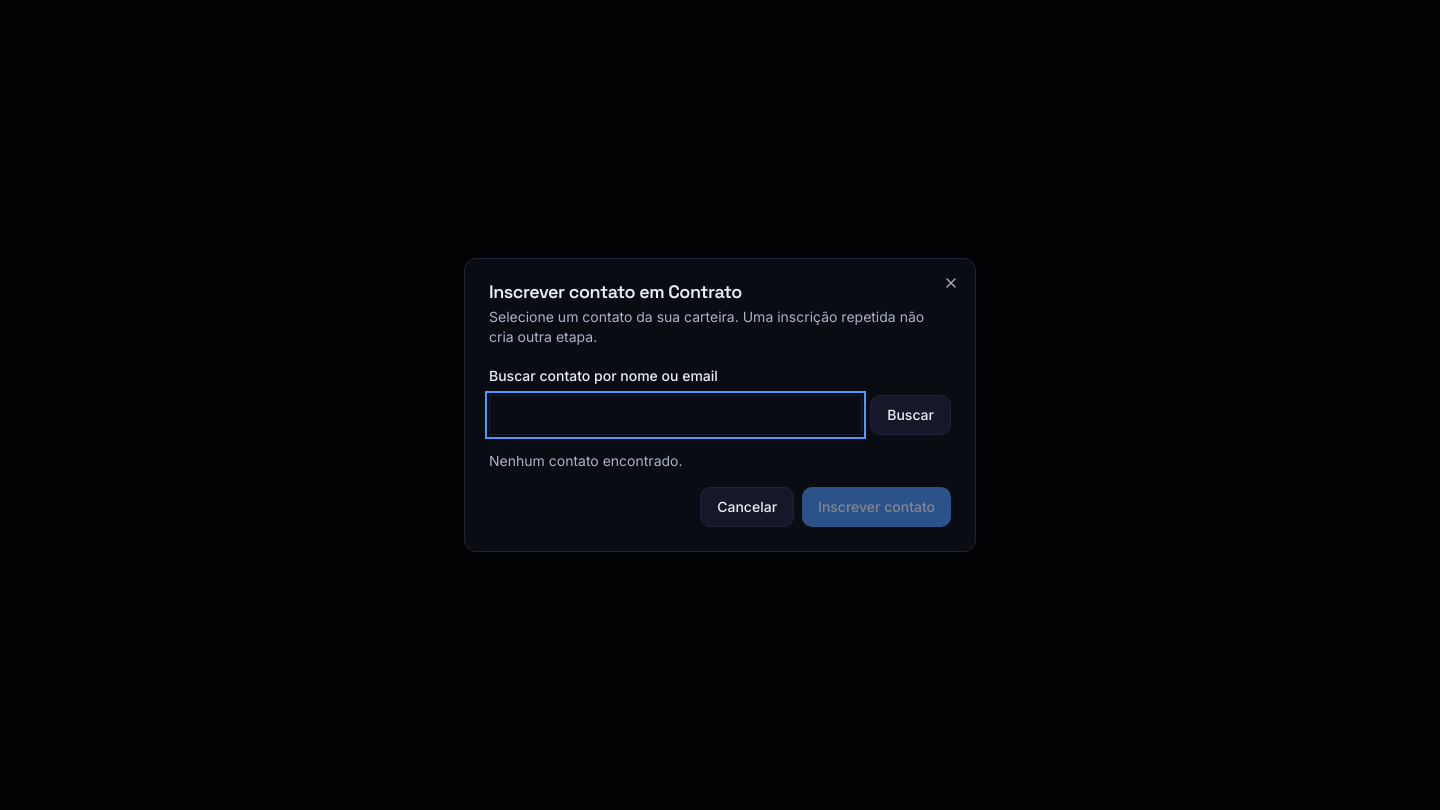
it: Inscrição com busca e cache da carteira › repete o mesmo termo depois de falha transitória e oferece o contato recuperado
This screenshot has width=1440, height=810.
Expected: the text "Nenhum contato encontrado." is shown, [489,452,682,469]
Type "Maria Silva" into the field labelled "Buscar contato por nome ou email" at (676,415), box [489,395,862,435]
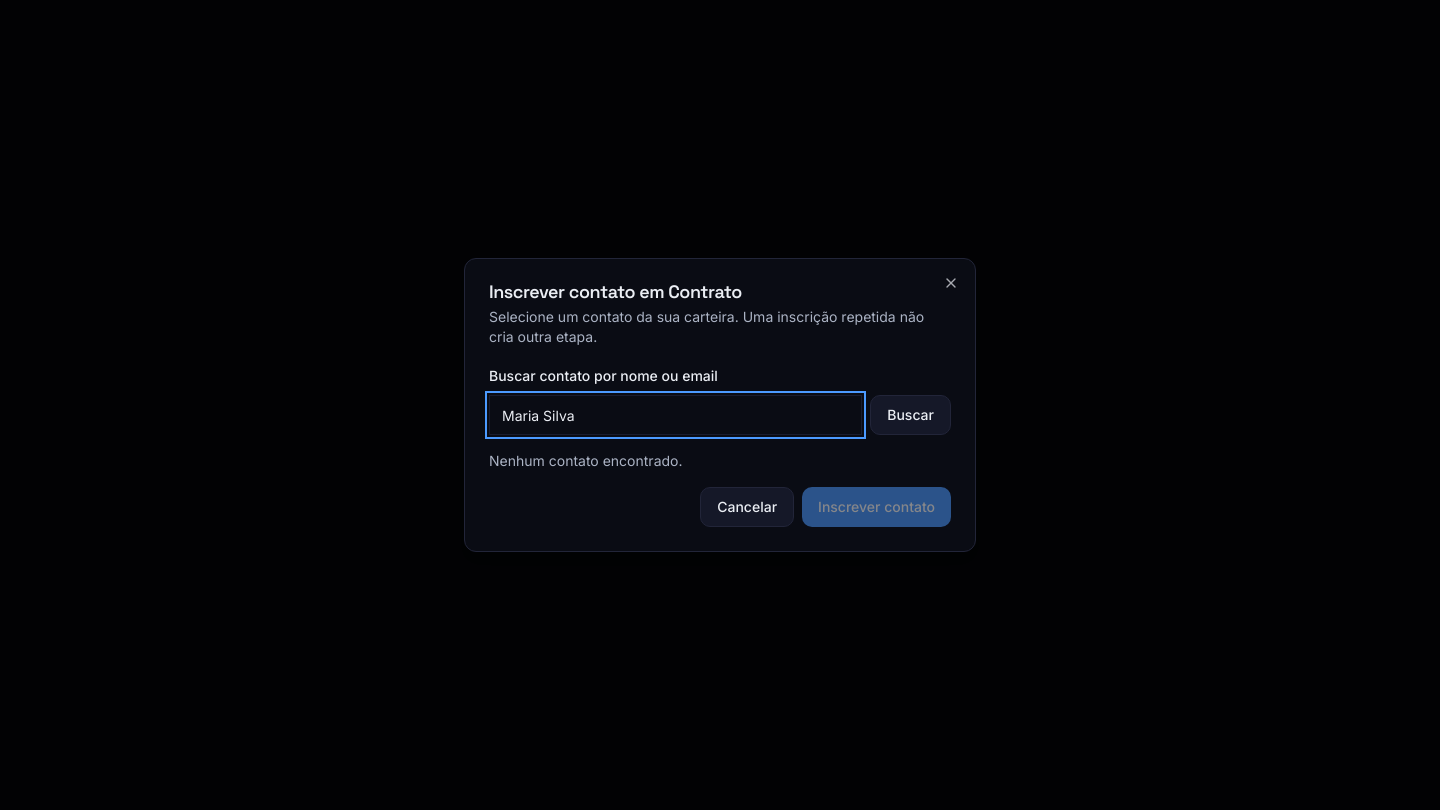
Click the button "Buscar" at (911,415), box [870,395,951,435]
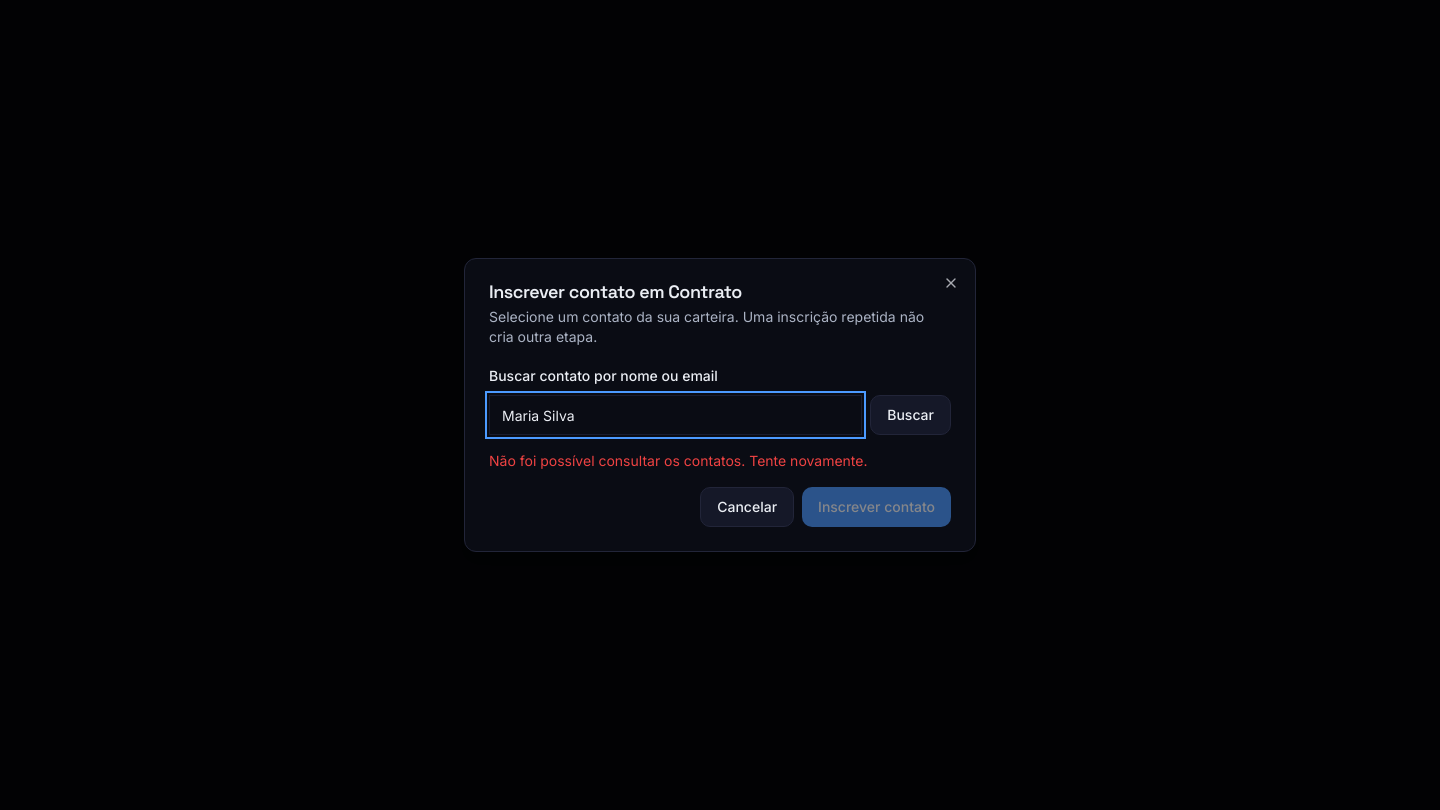
Result: the message "Não foi possível consultar os contatos. Tente novamente." is shown at [489,452,868,469]
Click the button "Buscar" at (911,415), box [870,395,951,435]
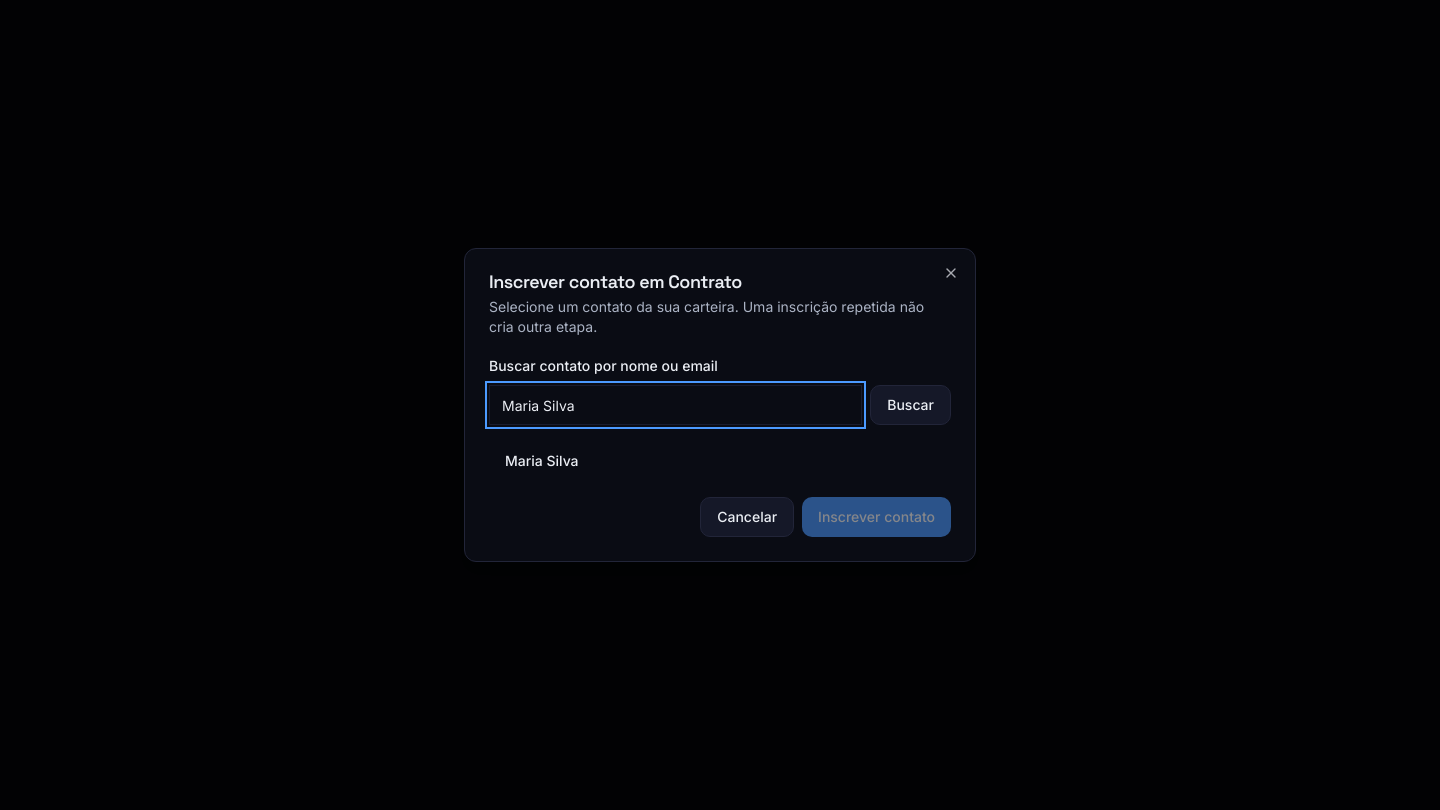
Result: the button "Maria Silva" is shown at [489,441,951,481]
Result: the message "Não foi possível consultar os contatos. Tente novamente." is gone
